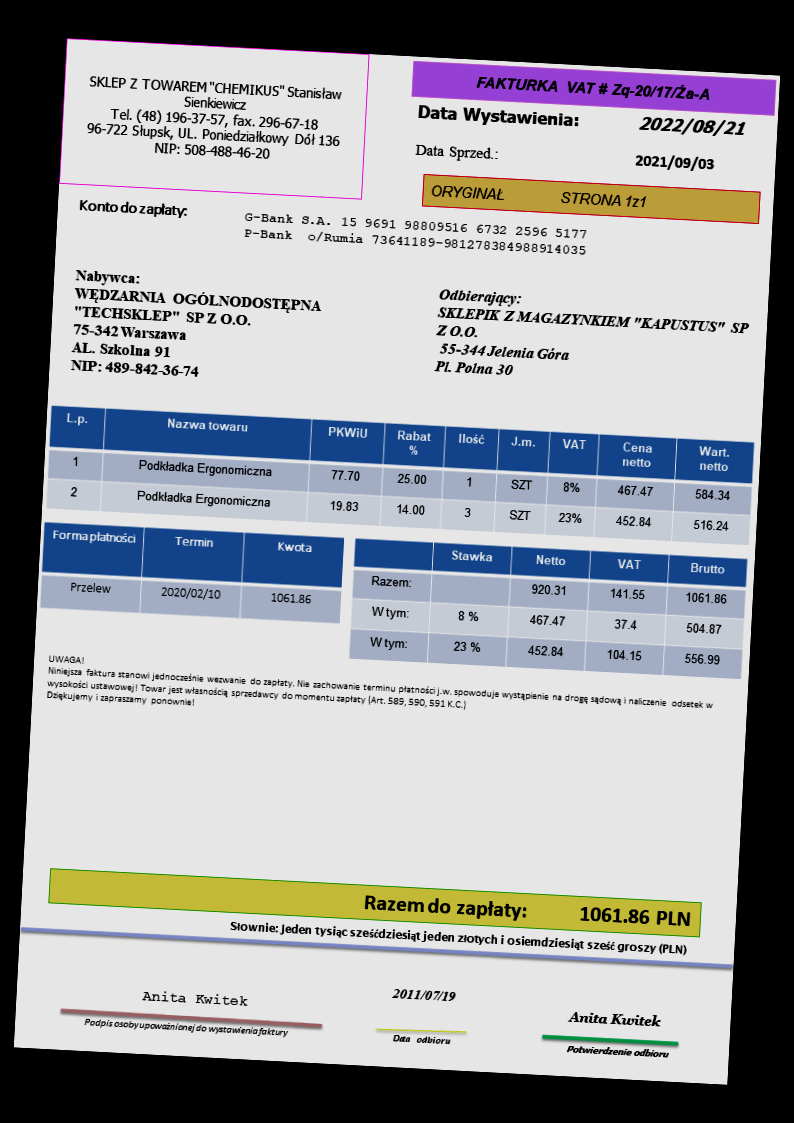Table: (44, 401, 756, 550), (345, 537, 749, 681), (38, 519, 348, 626)
TextBox: (44, 650, 718, 737), (430, 286, 752, 394), (66, 266, 328, 389), (79, 70, 348, 168), (226, 915, 689, 958), (237, 208, 591, 258), (361, 888, 694, 930), (470, 68, 717, 105), (429, 181, 649, 212), (414, 101, 583, 133), (80, 1015, 292, 1039), (638, 110, 748, 139), (74, 195, 191, 221), (140, 987, 247, 1008), (410, 140, 503, 164), (564, 1008, 665, 1029), (564, 1043, 673, 1061), (632, 153, 717, 174), (390, 985, 460, 1004), (391, 1031, 456, 1047)
